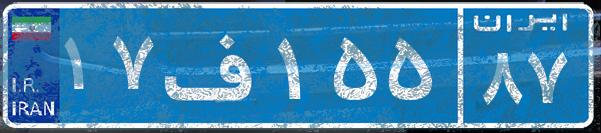1: (273, 28, 330, 110), (57, 26, 110, 107)
5: (385, 28, 445, 110), (330, 28, 385, 110)
7: (110, 28, 158, 105), (525, 38, 570, 115)
8: (475, 38, 525, 113)
ف: (158, 15, 273, 115)
